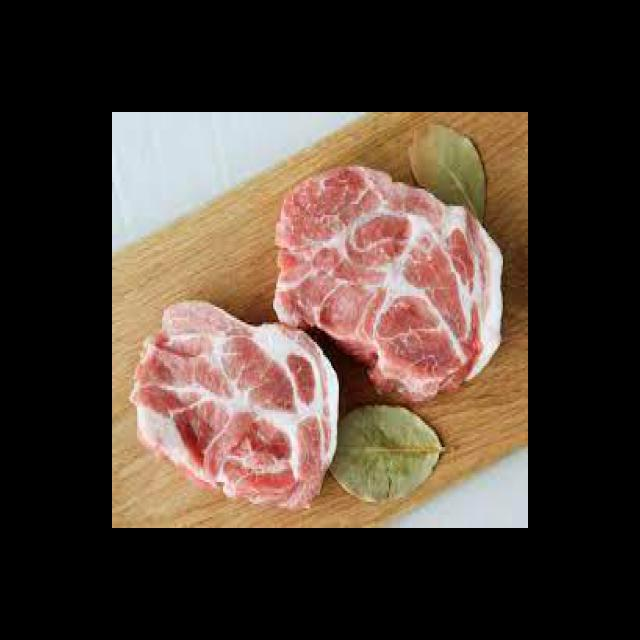pork: (266, 162, 508, 412), (132, 289, 356, 522)
